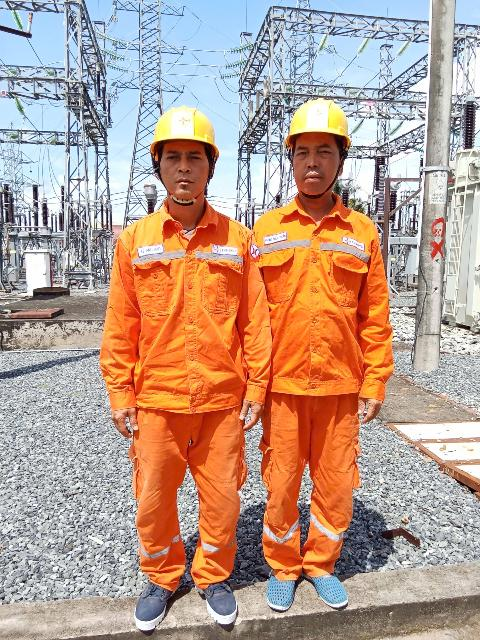helmet: (124, 98, 240, 174), (280, 88, 365, 160)
shoes: (251, 554, 309, 616), (312, 549, 359, 619), (136, 568, 181, 638), (199, 572, 244, 627)
